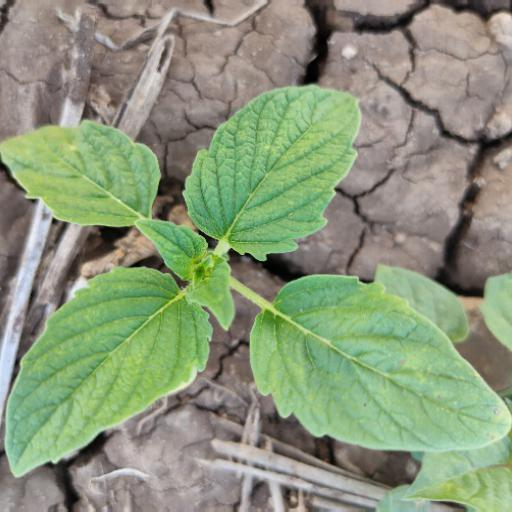crop: (1, 81, 505, 477)
